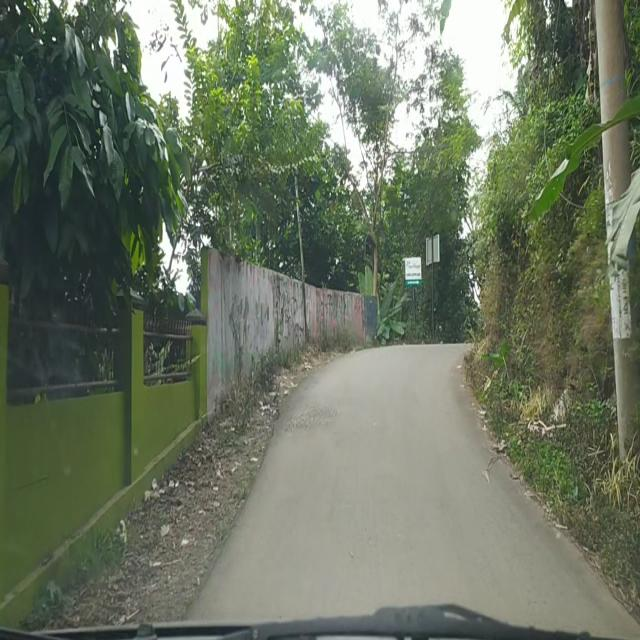Drain Hole: (280, 403, 334, 433)
